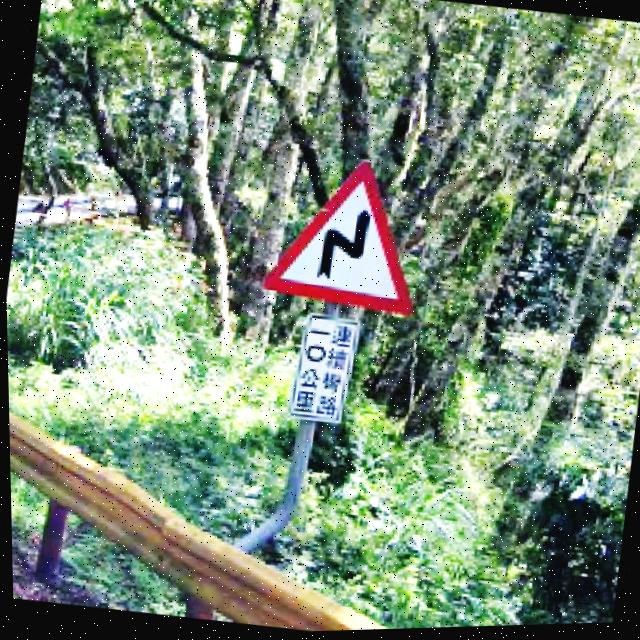doublebendright: (263, 164, 409, 321)
